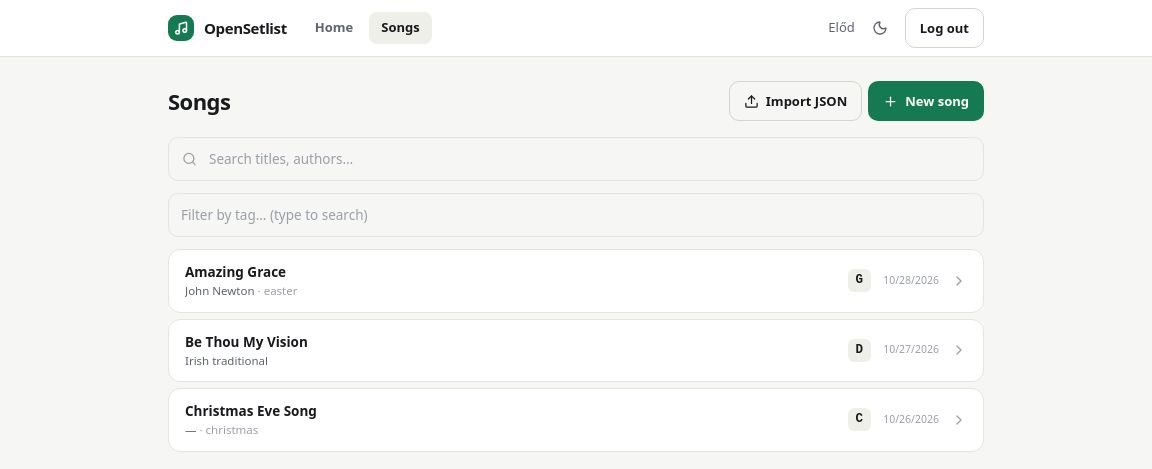
Test: SongsPage › lists songs with their tags and filters server-side by search
This screenshot has width=1152, height=469.
Expected: the text "Amazing Grace" is shown, [185,263,286,281]
Expected: the text "Be Thou My Vision" is shown, [185,332,308,350]
In the search field named "Search songs": (576, 159) [168,137,984,181], type "grace"
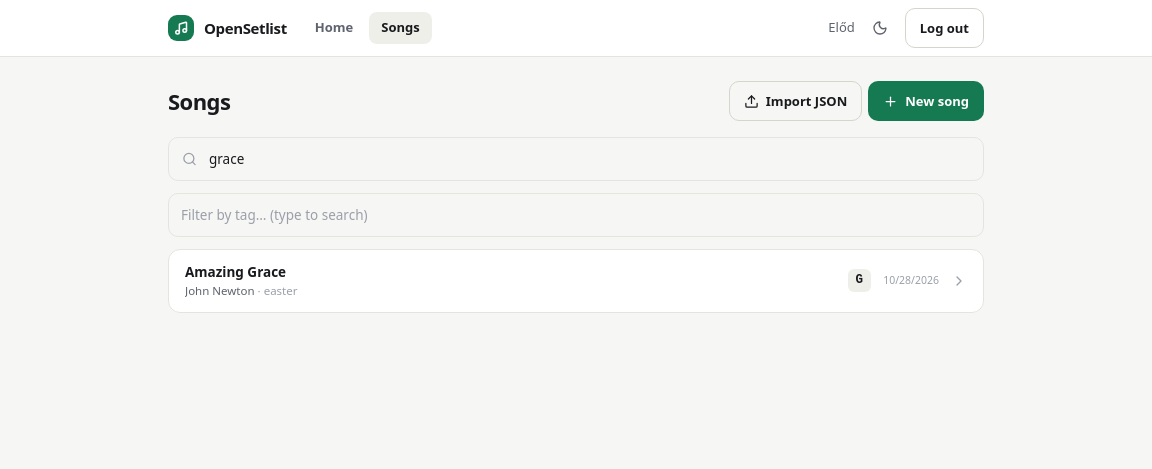
Expected: the text "Amazing Grace" is shown, [185,263,286,281]
Result: the button "Be Thou My Vision" is gone
